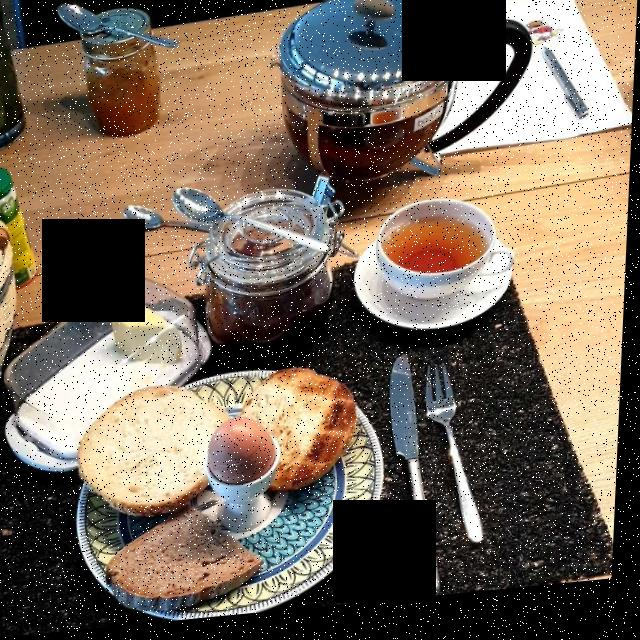bread-white: (91, 363, 363, 515)
bread-wholemeal: (96, 514, 279, 622)
butter: (101, 301, 193, 368)
egg: (204, 426, 282, 496)
tea: (399, 216, 474, 280)
